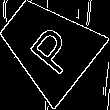P_NW: (17, 15, 78, 75)
